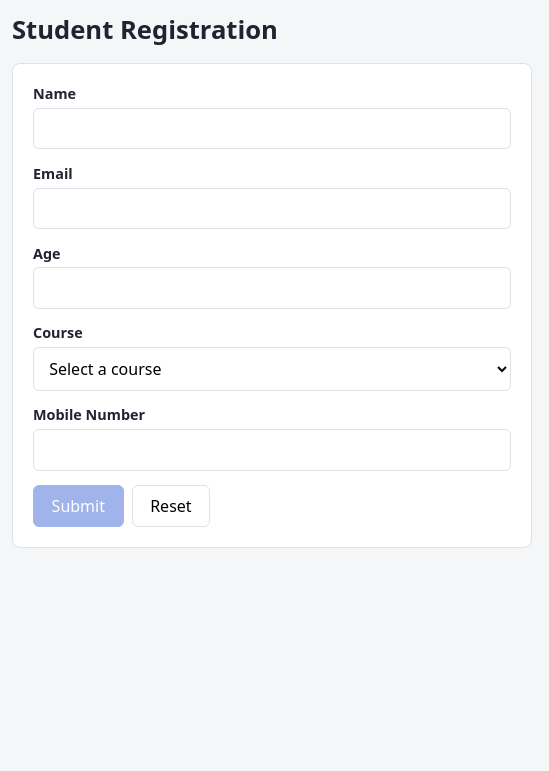
Student Registration form › shows the submitted data only after a valid submit, and Reset clears everything
Type "Priya Menon" into the field labelled "Name".
click(272, 129); type("Priya Menon")  # box [33,108,511,149]
Type "priya@example.com" into the field labelled "Email".
click(272, 208); type("priya@example.com")  # box [33,188,511,229]
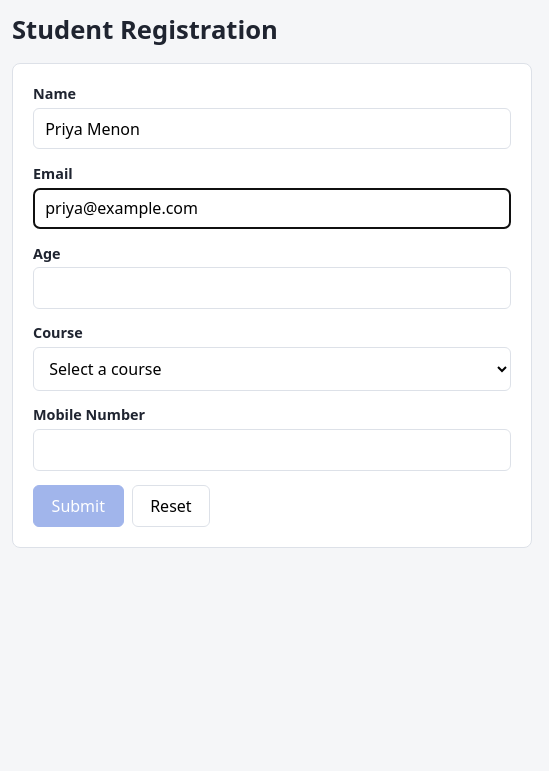
Type "21" into the number field labelled "Age".
click(272, 288); type("21")  # box [33,267,511,309]
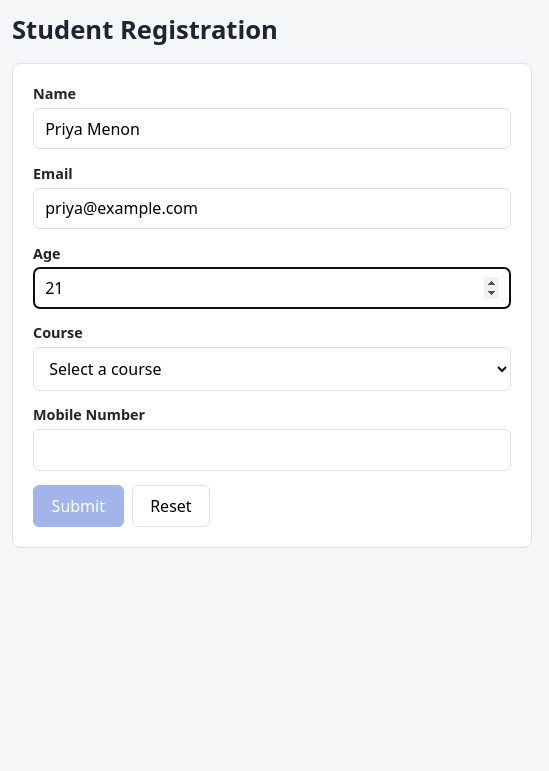
Select "Data Science" in the dropdown labelled "Course" at (272,369), box [33,347,511,391]
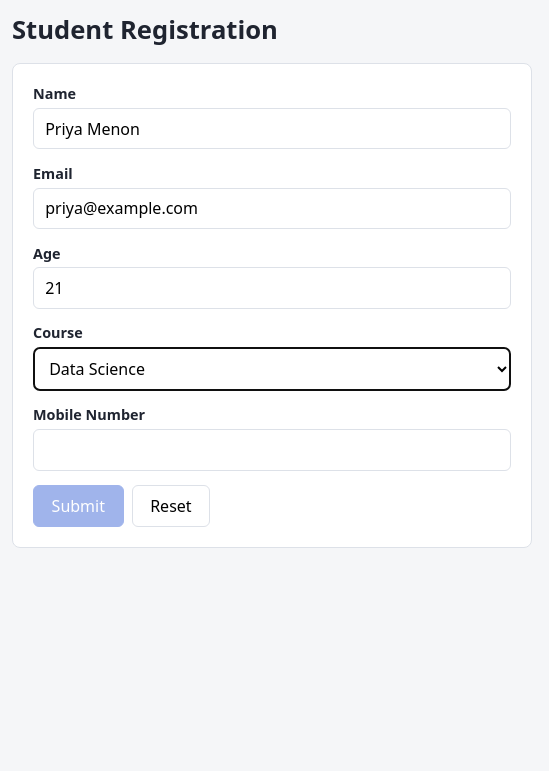
Type "9876543210" into the field labelled "Mobile Number".
click(272, 450); type("9876543210")  # box [33,429,511,470]
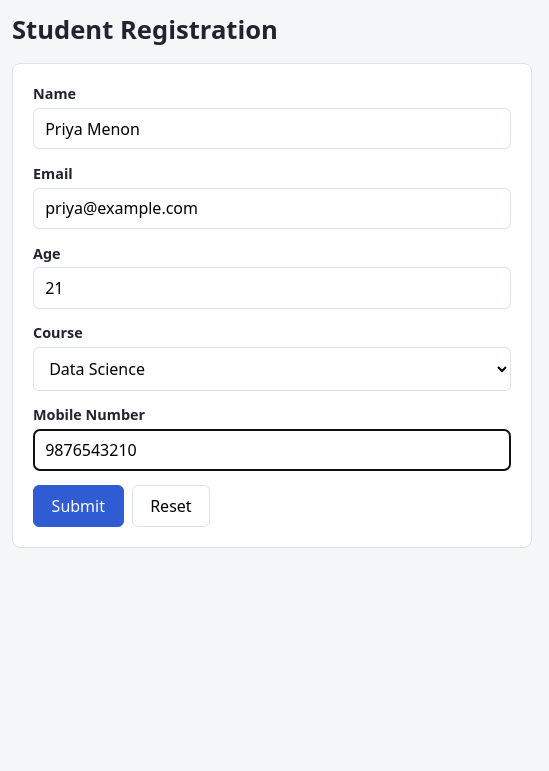
Click the button "Submit".
click(78, 506)  # box [33,485,124,526]
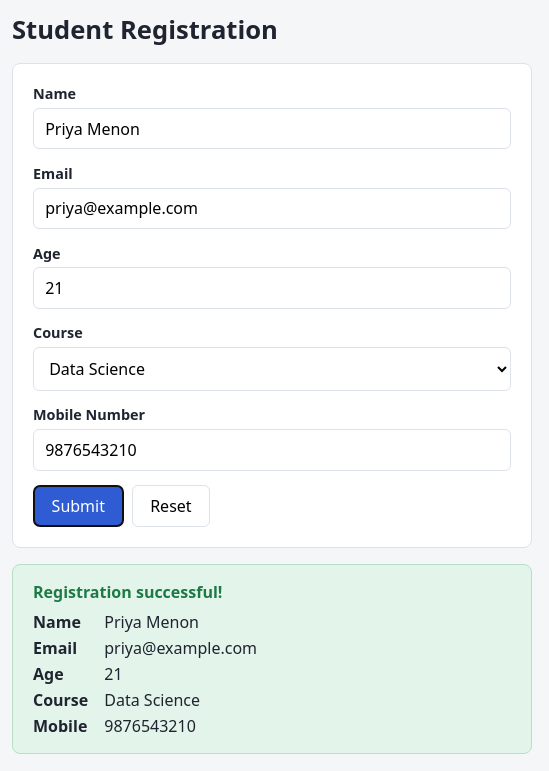
Expected: the message shows "Registration successful!", [33,580,222,602]
Expected: the message shows "priya@example.com", [104,636,257,658]
Click the button "Reset".
click(171, 506)  # box [132,485,210,526]
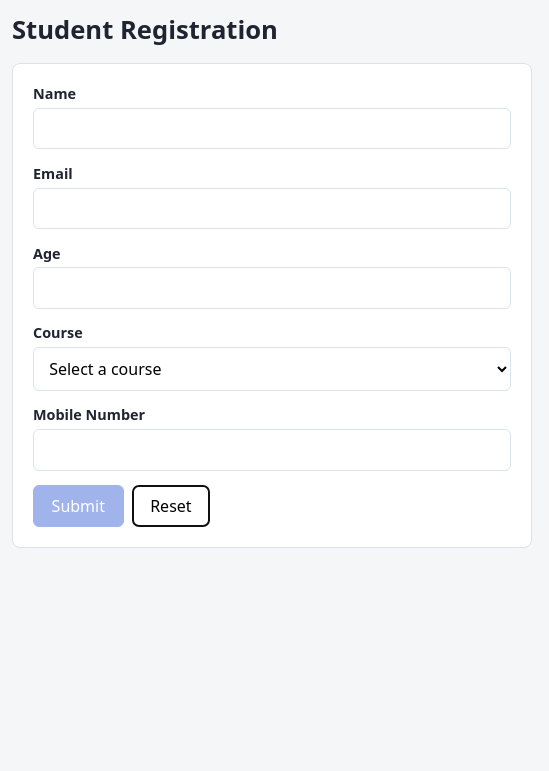
Expected: the message "Registration successful! Name Priya Menon Email priya@example.com Age 21 Course" is gone
Expected: the field labelled "Name" is empty, [33,108,511,149]
